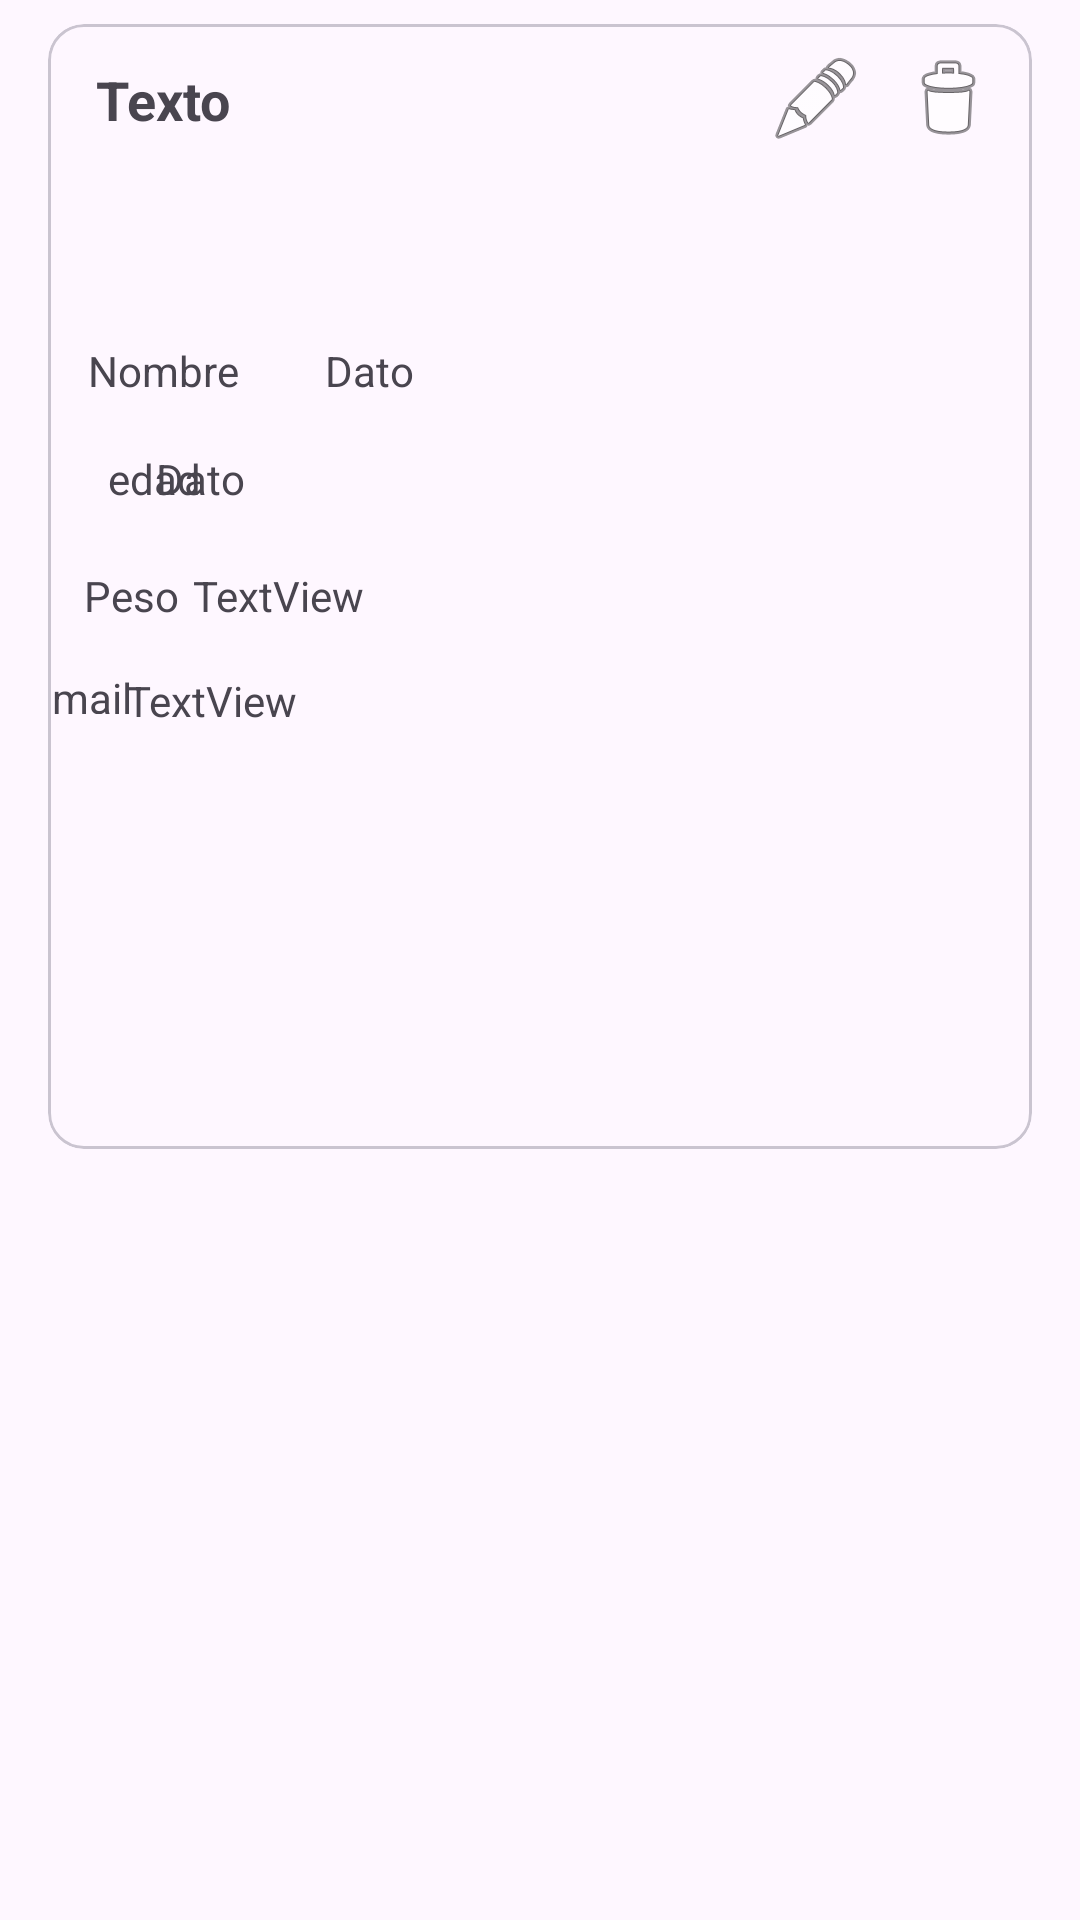

Screen size 1080px×1920px. Icon name, then its box in pixels as (x1, y1, x2, y2):
delete: (921, 60, 976, 135)
edit: (775, 58, 856, 139)
